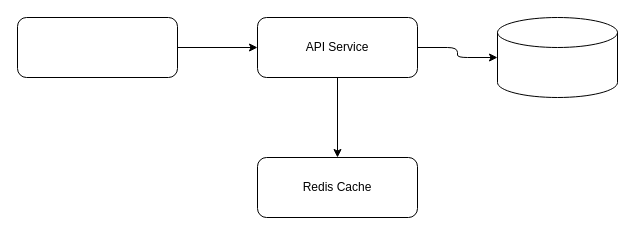
Some shapes in this 635 by 235 pixel diagram are drawn without their labels. The box of each missing label's shape, as (x1, y1, x2, y2) in pixels:
Postgres: (496, 16, 618, 98)
Web App: (16, 16, 178, 78)
